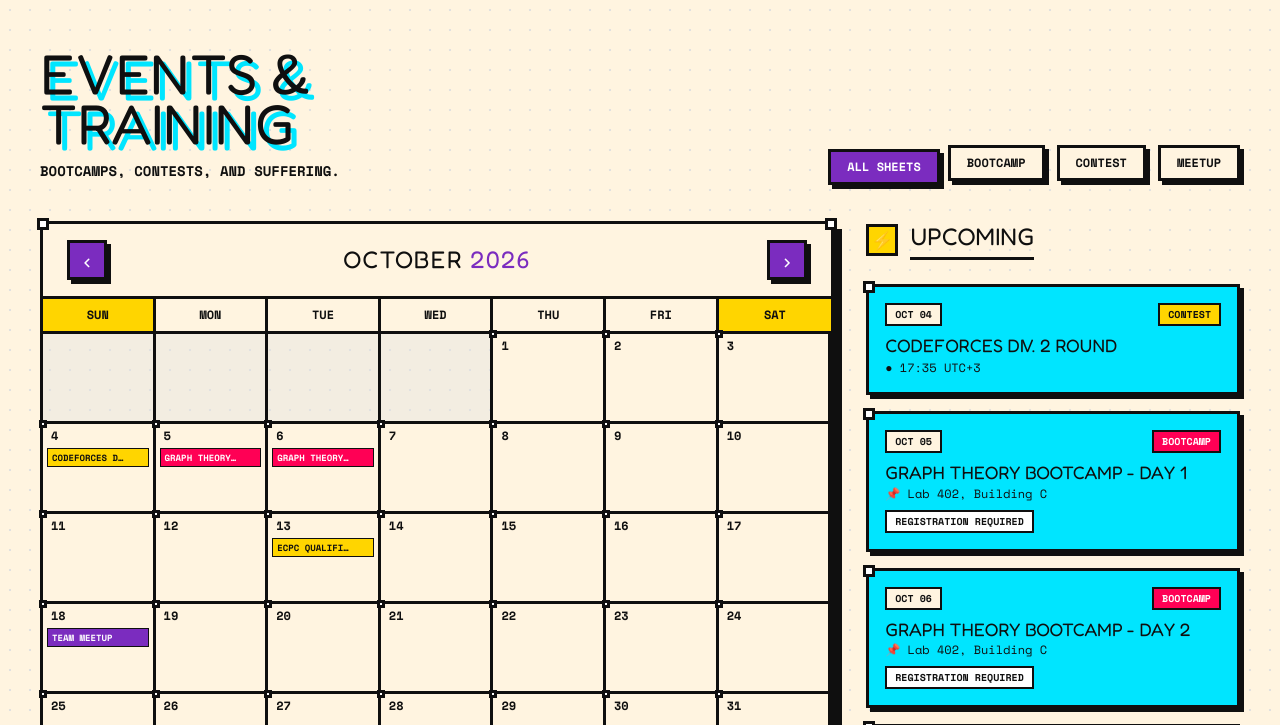
Test: EventsPage › moves to the next month and wraps across year boundaries
Click the button named "Next month": [787, 260] box [767,240,807,280]
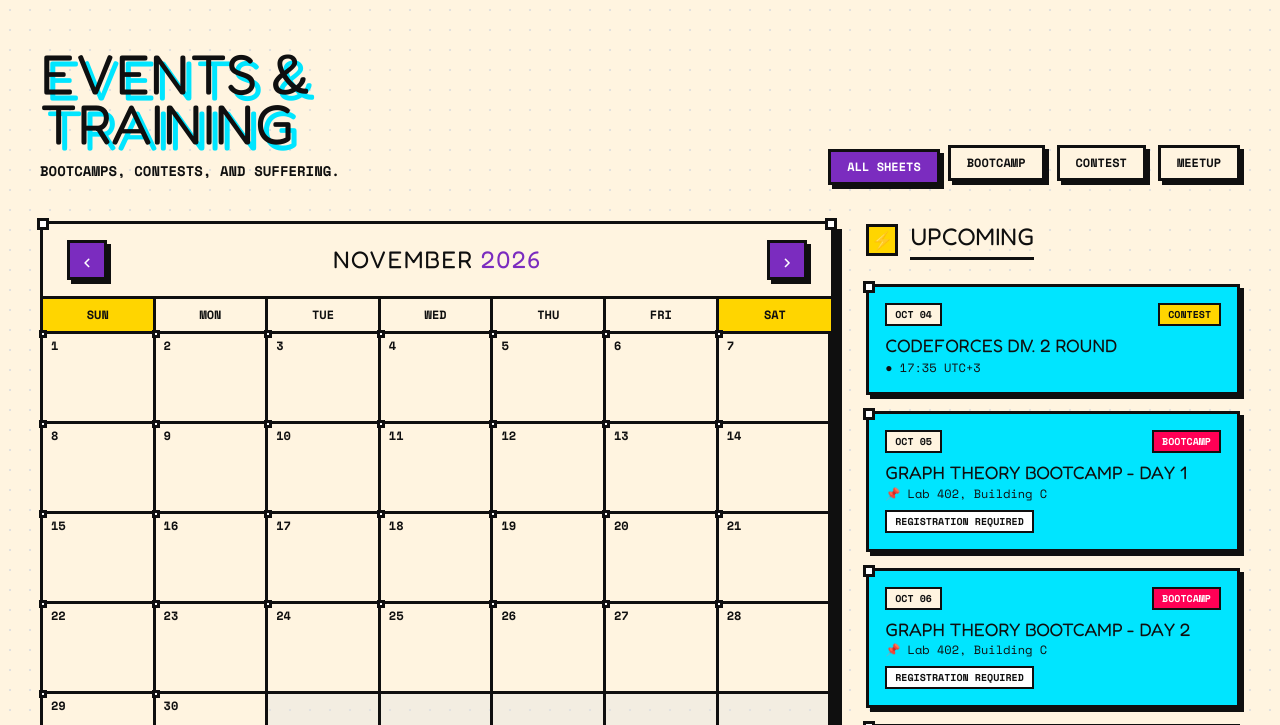
expect the text "2026" is shown: met, box [481,245,541,274]
expect the heading "NOVEMBER 2026" is shown: met, box [333,244,541,276]
Click the button named "Next month": [787, 260] box [767,240,807,280]
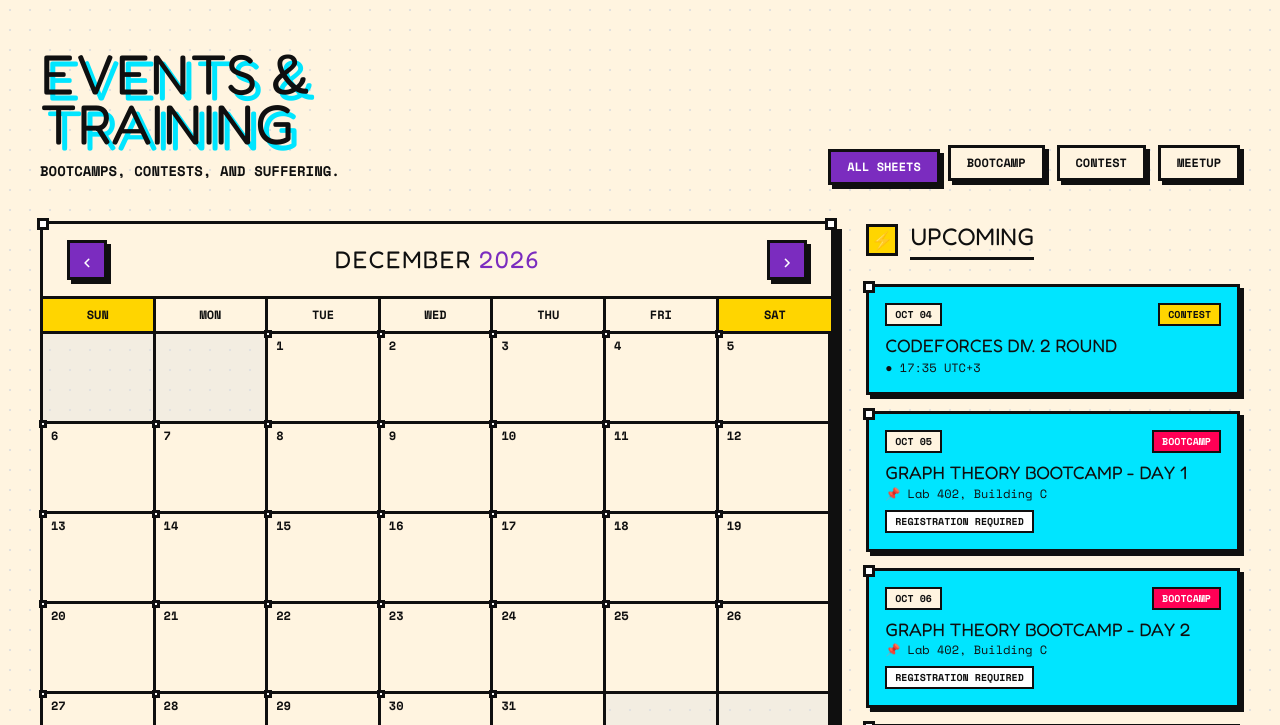
expect the heading "DECEMBER 2026" is shown: met, box [335,244,540,276]
Click the button named "Next month": [787, 260] box [767,240,807,280]
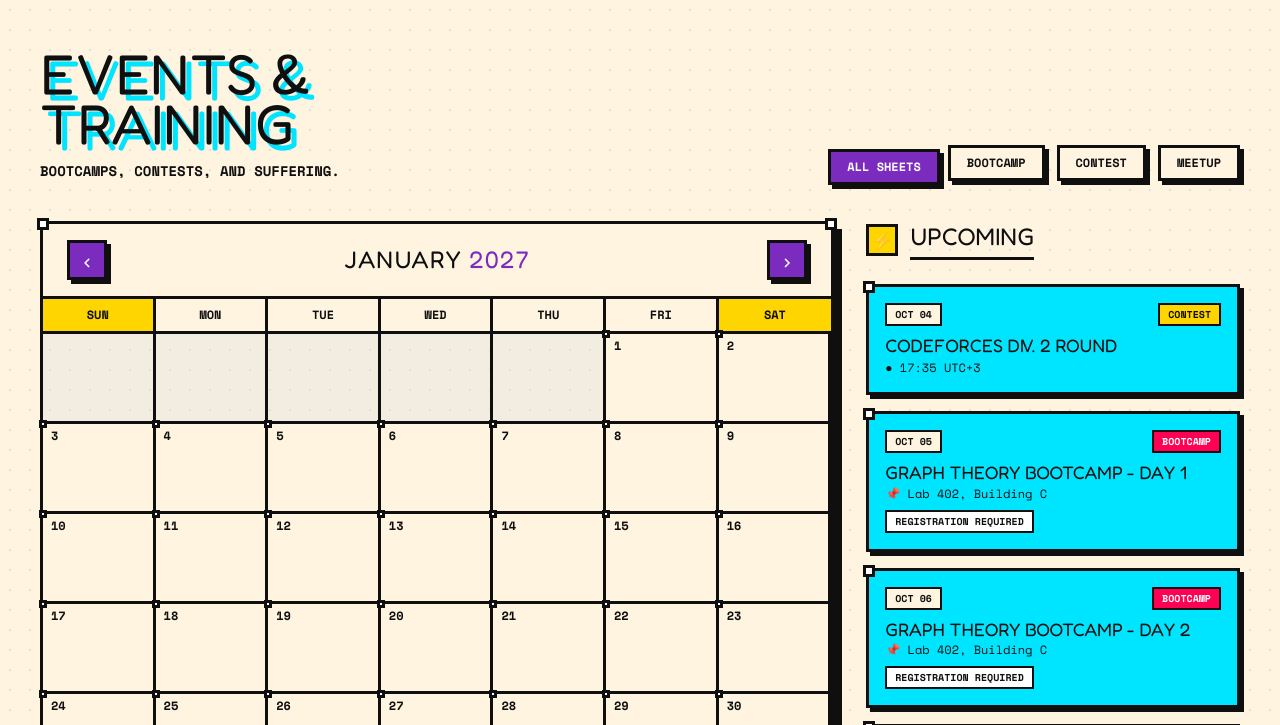
expect the heading "JANUARY 2027" is shown: met, box [344,244,530,276]
expect the text "2027" is shown: met, box [469,245,530,274]
Click the button named "Previous month": [87, 260] box [67,240,107,280]
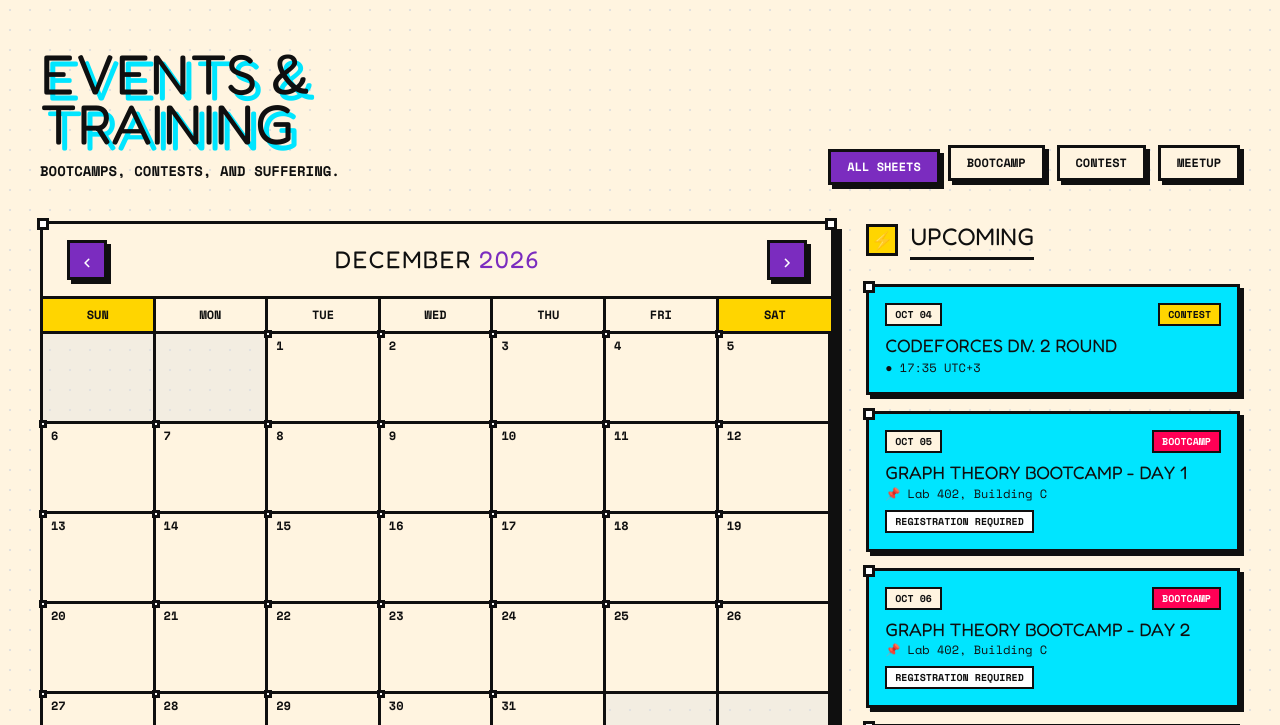
expect the heading "DECEMBER 2026" is shown: met, box [335,244,540,276]
expect the text "2026" is shown: met, box [479,245,540,274]
